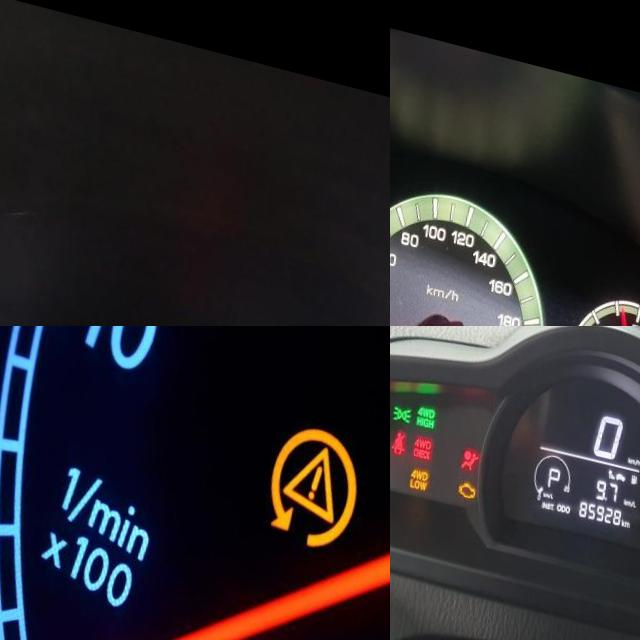SideLamp: (401, 397, 422, 417)
